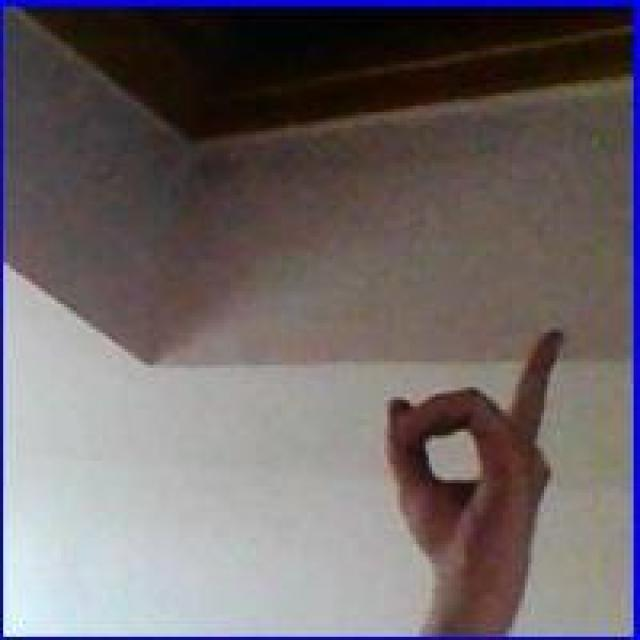D: (378, 318, 566, 613)
